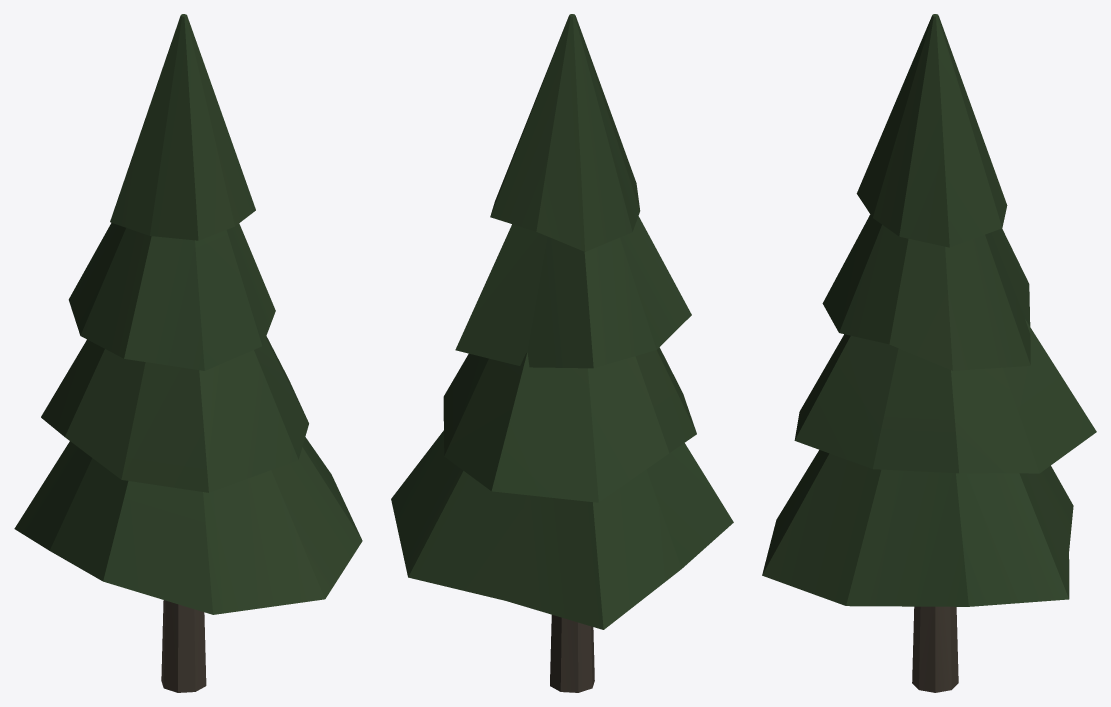
Rendered from tree_pine_02.glb.
3 views of the same model, side by side, from view 1: azimuth 30°, elevation 25°; view 2: azimuth 150°, elevation 25°; view 3: azimuth 270°, elevation 25° (orthographic).
Visible parts, largest first — view 1: tree_pine_02; view 2: tree_pine_02; view 3: tree_pine_02.
Part boxes in pixels (left/top/right/bottom): tree_pine_02: left=14, top=14, right=362, bottom=692; tree_pine_02: left=391, top=14, right=733, bottom=692; tree_pine_02: left=762, top=14, right=1096, bottom=692.
Size of the model in its own units: 3.92 by 8.73 by 3.97.
